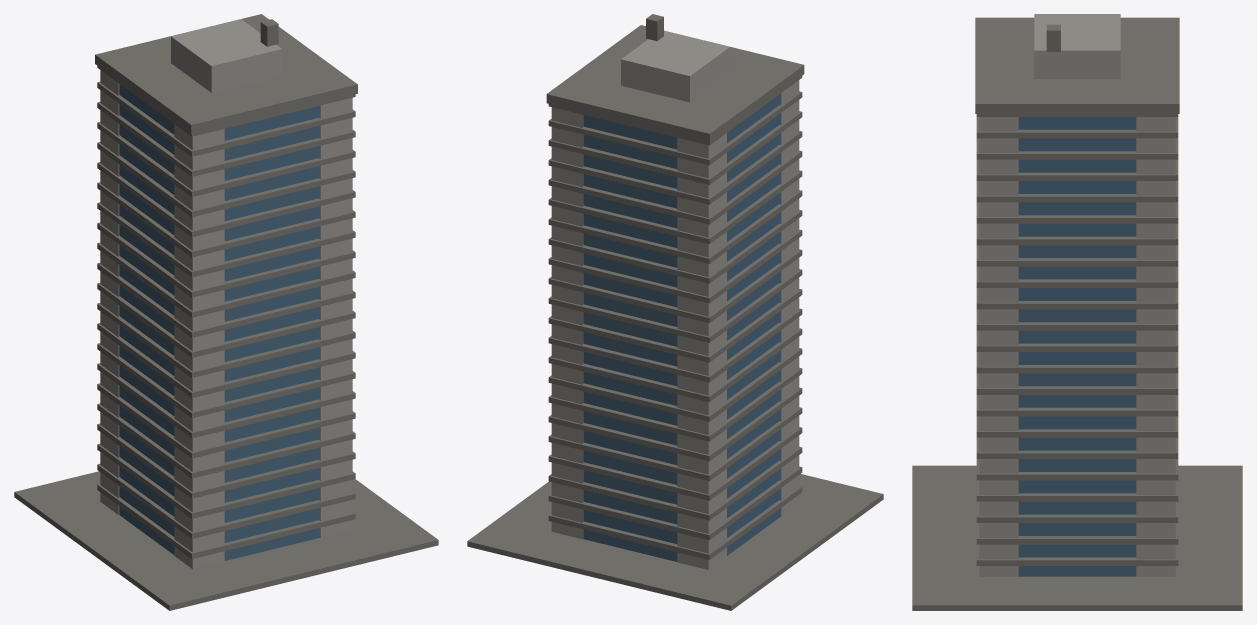
File: post_war_estate_tower.glb
3 renders of one model, left to right at view 1: azimuth 30°, elevation 25°; view 2: azimuth 150°, elevation 25°; view 3: azimuth 270°, elevation 25°, orthographic. The views are drawn at different scales.
Parts seen in each view (by area): view 1: post_war_estate_tower; view 2: post_war_estate_tower; view 3: post_war_estate_tower.
Part boxes in pixels (<box>): post_war_estate_tower: <box>14,14,438,610</box>; post_war_estate_tower: <box>467,14,883,610</box>; post_war_estate_tower: <box>912,14,1242,610</box>.
Bounding box in the file's own units: 42 × 74.4 × 42.
